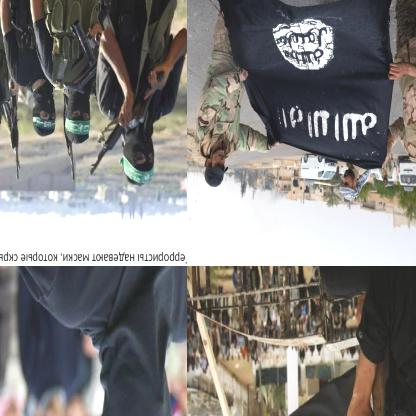rifle: (321, 296, 398, 415), (86, 72, 164, 176), (7, 91, 25, 180)
